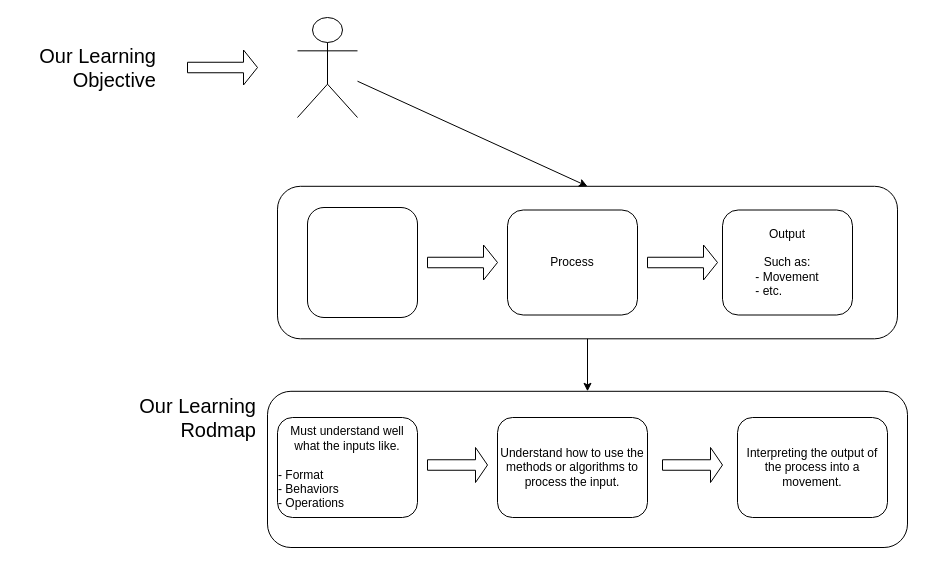
Some shapes in this 925 by 565 pixel diagram are drawn without their labels. Here are the shapes that lost their labels. From the top down, the box of each, then its label:
(296, 16, 358, 118): Autonomus Robots
(306, 206, 418, 318): Input Such as: - Camera - Sensors - etc.
